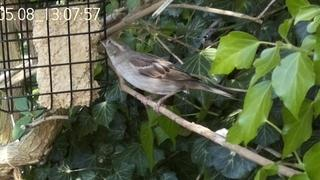sparrow: (100, 37, 235, 114)
